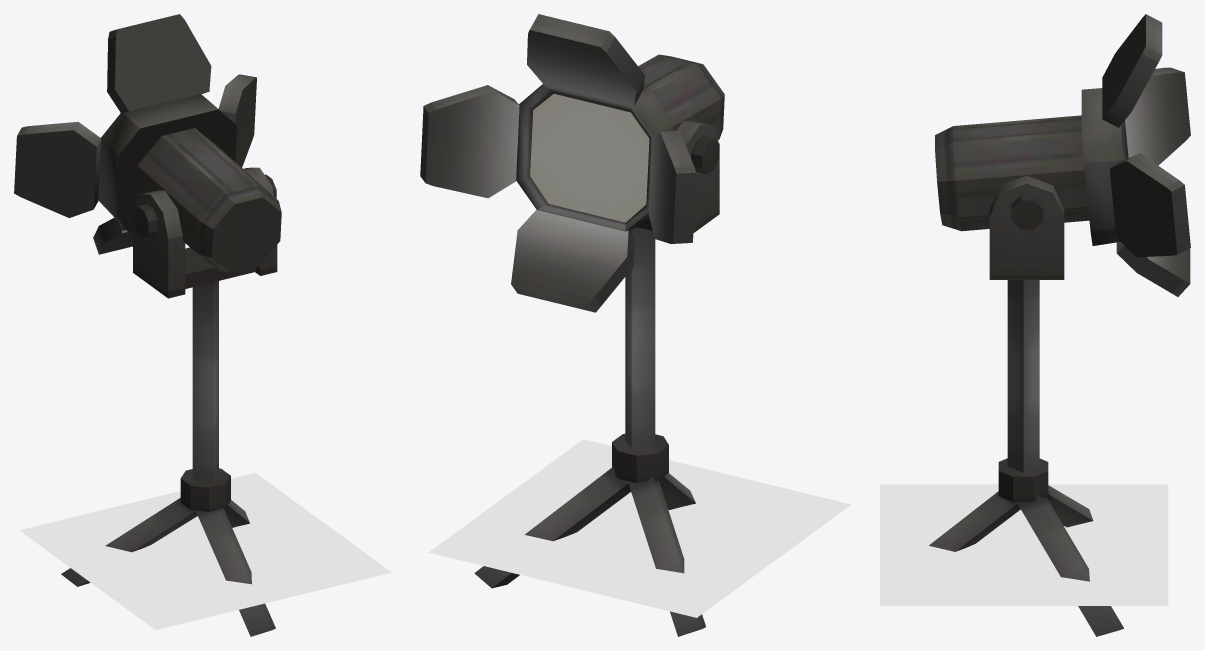
The model's file is wall_light1 (merge).fbx.
The picture shows the model from 3 angles, left to right: view 1: azimuth 30°, elevation 25°; view 2: azimuth 150°, elevation 25°; view 3: azimuth 270°, elevation 25°; orthographic projection. The views are drawn at different scales.
Parts seen in each view (by area): view 1: wall_light1, shadow; view 2: wall_light1, shadow; view 3: wall_light1, shadow.
Boxes of the visible parts, x1,y1,x2,y2 form: wall_light1: (14,14,281,636); shadow: (19,472,391,629); wall_light1: (420,14,724,636); shadow: (429,439,851,617); wall_light1: (929,14,1190,636); shadow: (880,484,1168,605).
Size of the model in its own units: 0.9757 by 2.06 by 1.03.
2 materials, 2 textured.
